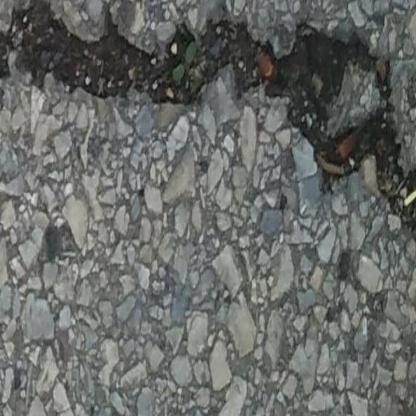Cracks: (0, 2, 416, 253)
